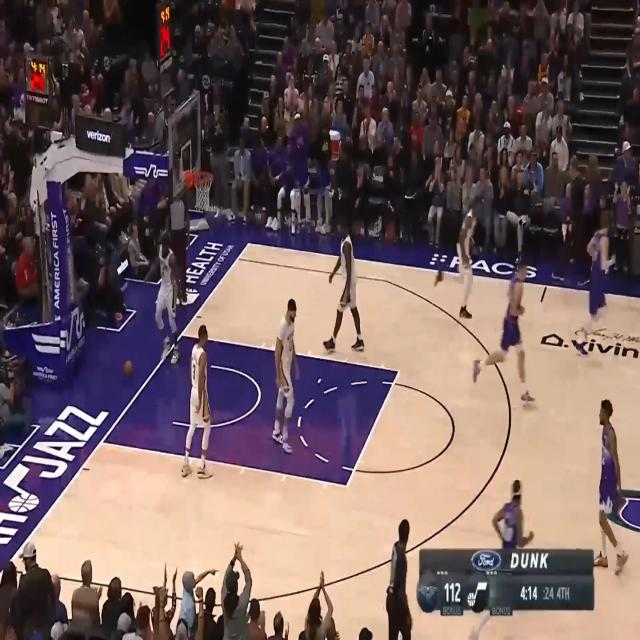Ball: (124, 361, 134, 378)
Hoop: (192, 170, 214, 211)
Period: (556, 583, 570, 604)
Player: (467, 477, 535, 640), (472, 259, 536, 410), (591, 399, 629, 577), (572, 211, 618, 355), (433, 195, 482, 319), (322, 217, 365, 354), (180, 323, 215, 480), (144, 234, 182, 365), (272, 297, 300, 456)
Ref: (386, 518, 413, 640), (166, 189, 190, 307)
Shot Clock: (543, 584, 554, 602)
Team Points: (443, 581, 462, 606)
Time Remaining: (519, 583, 540, 603)
